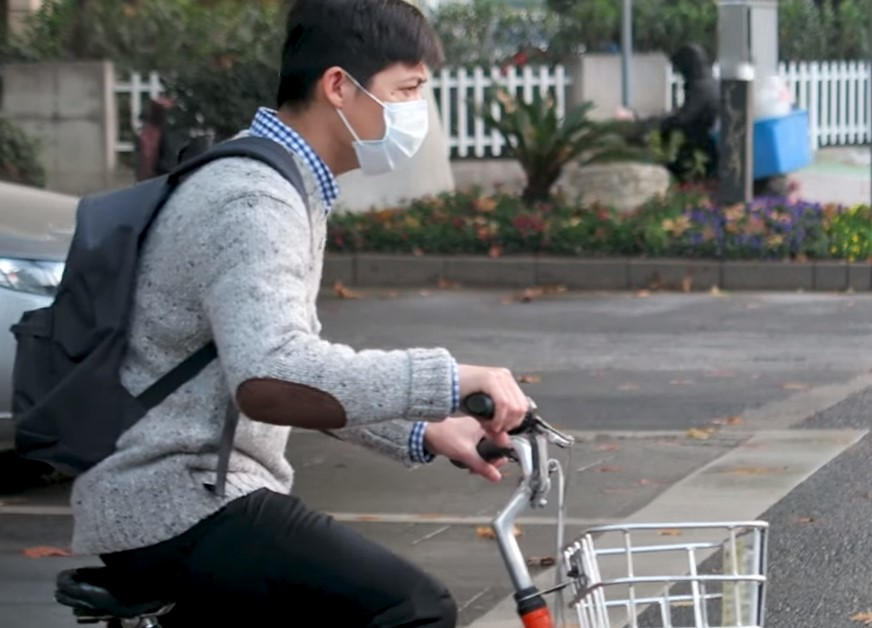face_with_mask: (312, 7, 437, 184)
